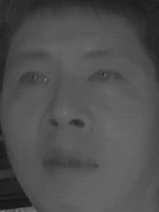eye: (17, 68, 52, 93), (87, 64, 124, 87)
mouth: (36, 142, 100, 185)
